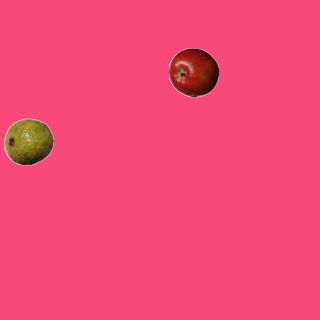Apple Braeburn: (168, 47, 218, 97)
Guava: (3, 116, 53, 166)
